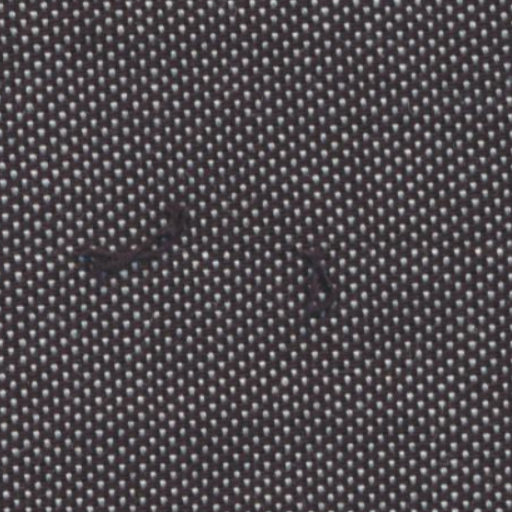DuanSha: (80, 186, 196, 290), (288, 235, 356, 320)
